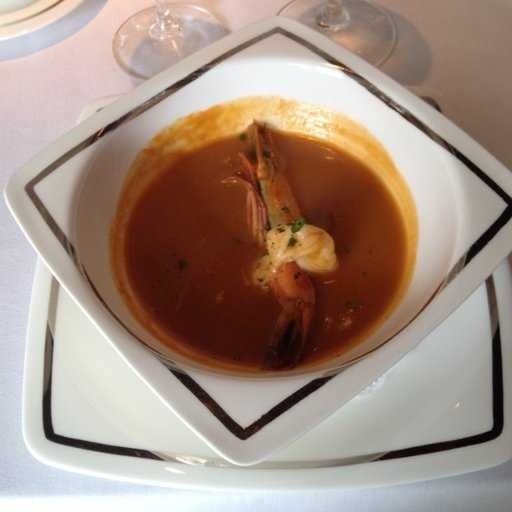soup: (39, 68, 469, 418)
